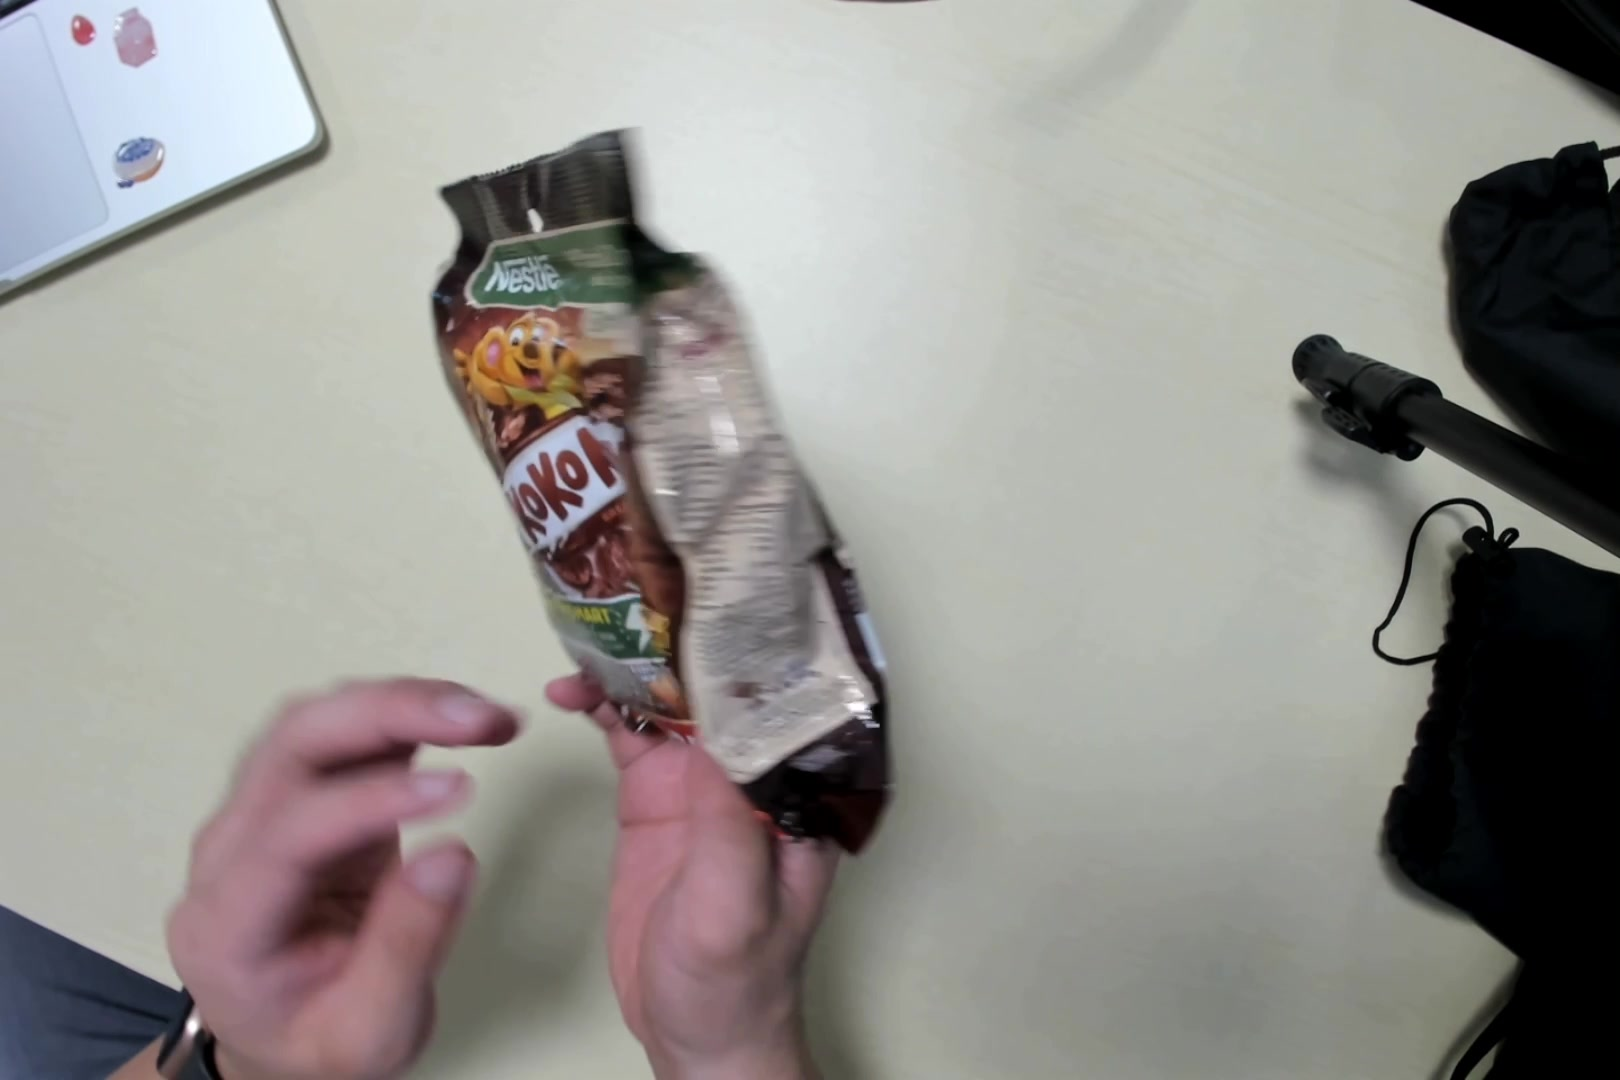BreakfastCereals_0-99g_Halal_NonHealthy: (425, 147, 905, 846)
